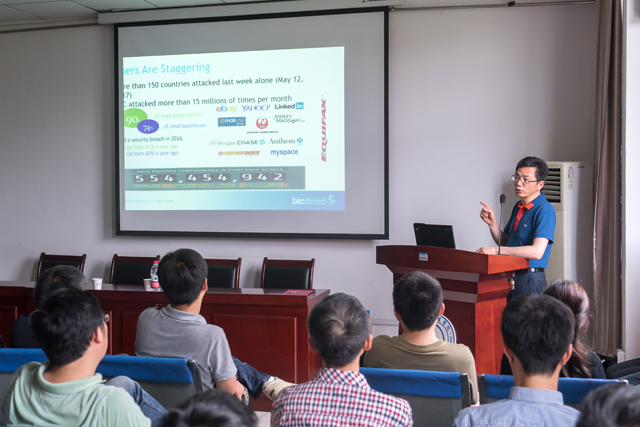noWear: (75, 311, 111, 364), (513, 164, 545, 202)
